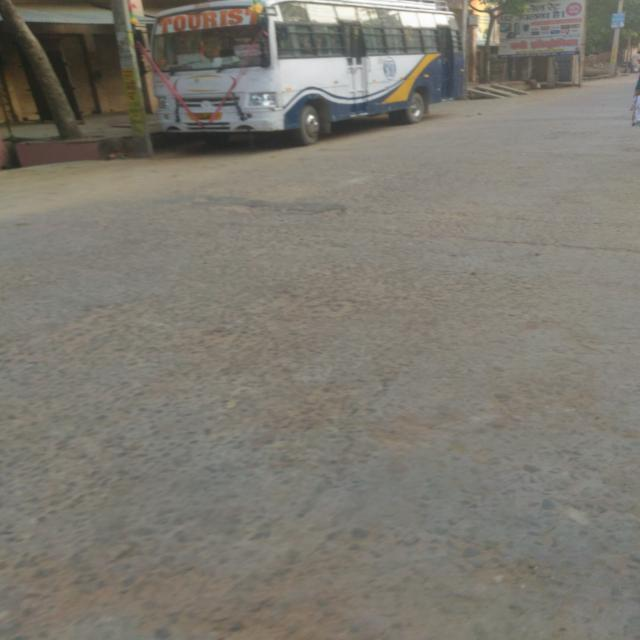bus_front: (119, 0, 468, 148)
